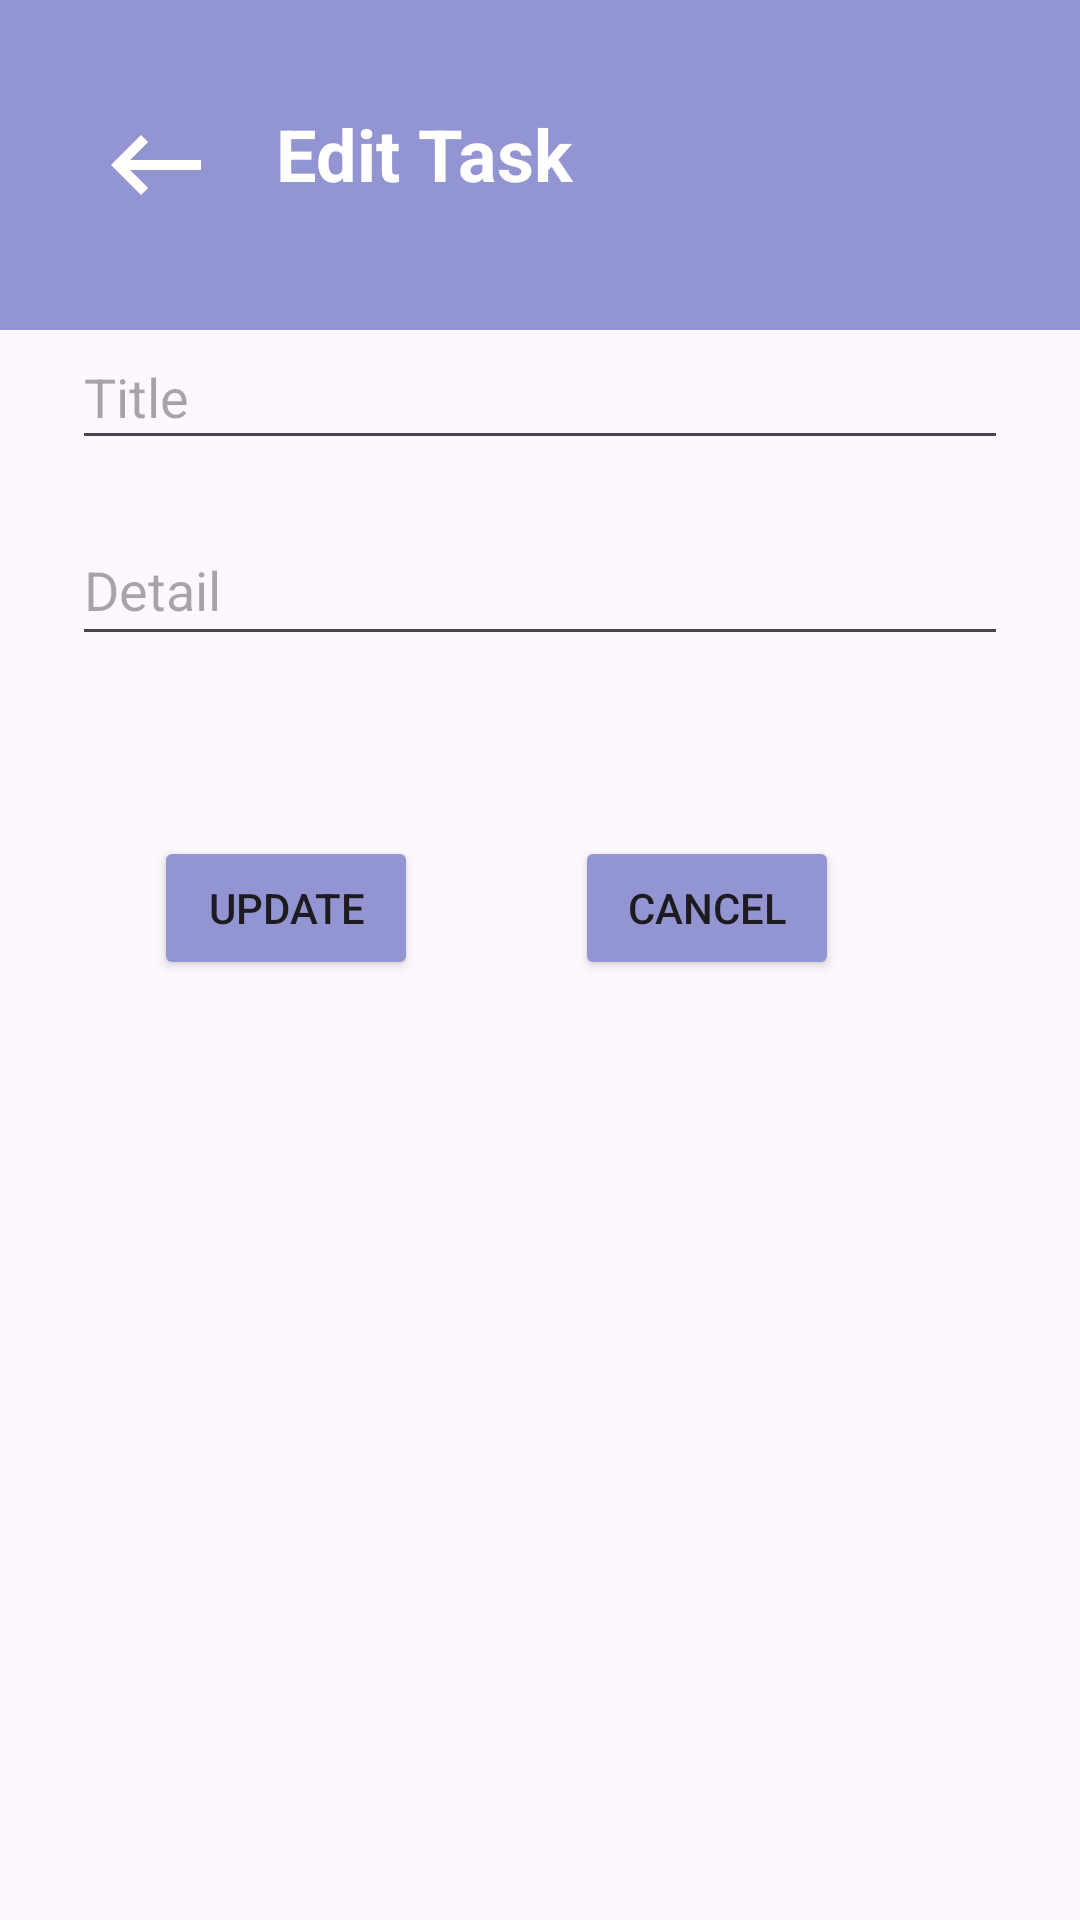

Where to tap for icons on this 1080w x 1920h app screen, as (x,y):
keyboard backspace: (156,165)
